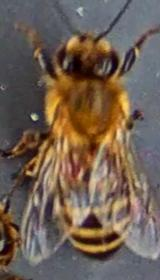varroa_mite: (58, 146, 83, 182)
